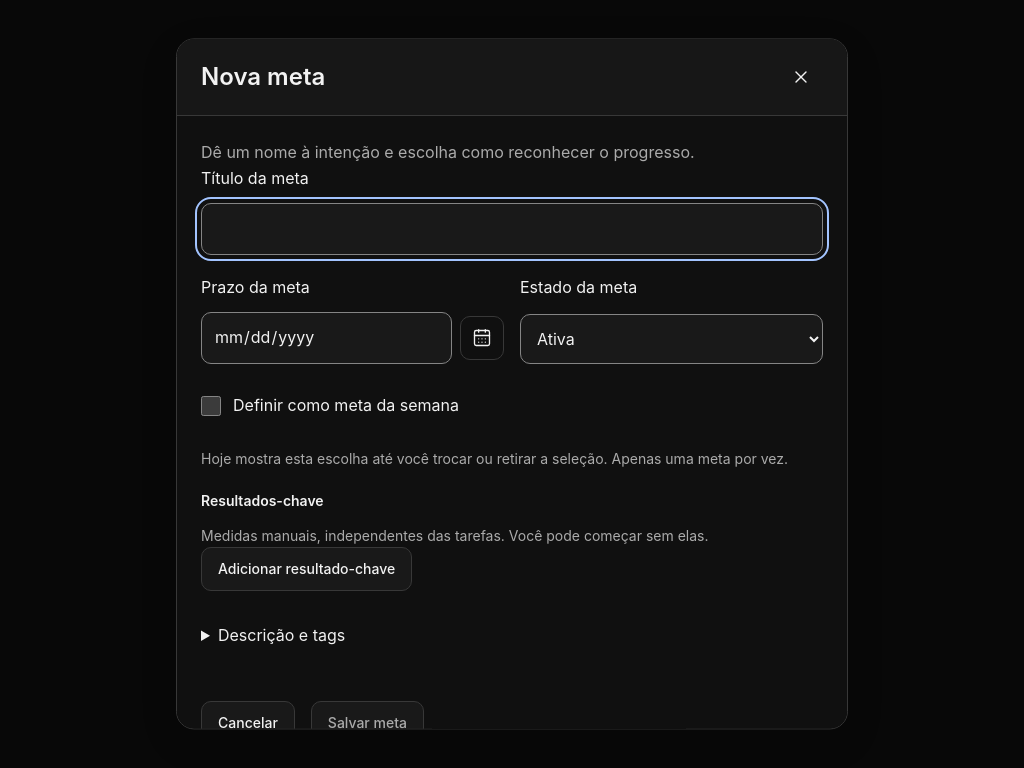
Test: confirmação e recuperação enquanto o formulário continua aberto › mantém o texto e explica como corrigir uma falha sem encerrar o formulário
Type "Meu rascunho preservado" into the field labelled "Título da meta".
click(512, 229); type("Meu rascunho preservado")  # box [201, 204, 823, 255]
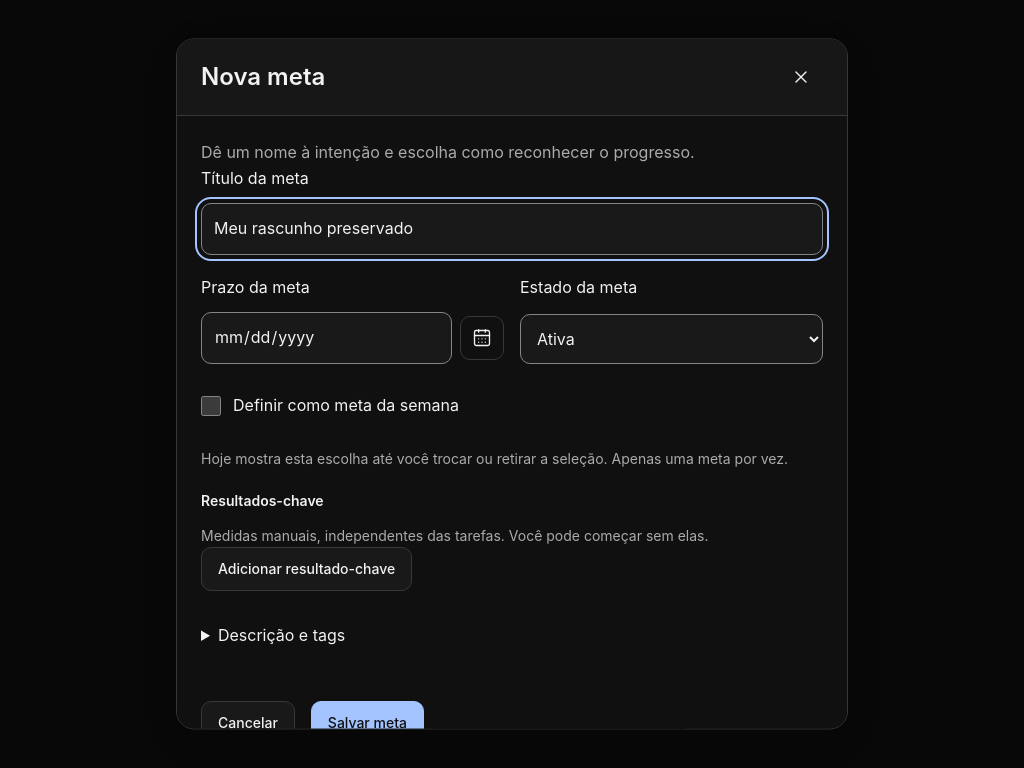
Submit the form named "Salvar meta", box [201, 166, 823, 765]
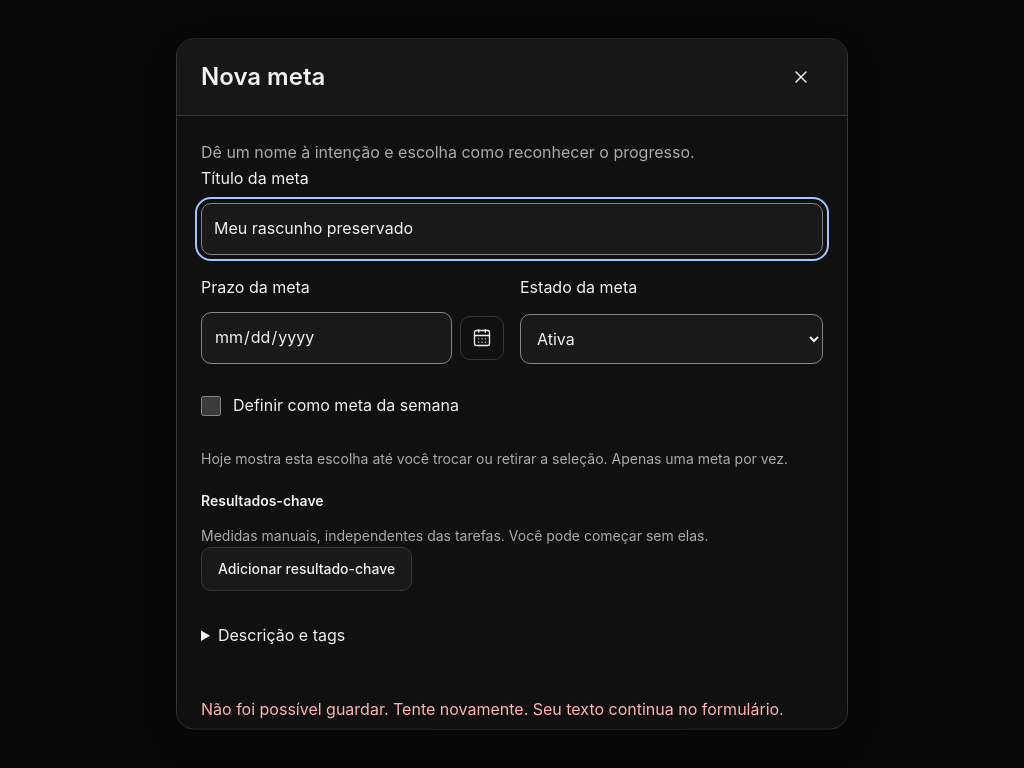
Check: the message shows "Tente novamente.", box [201, 699, 528, 719]
